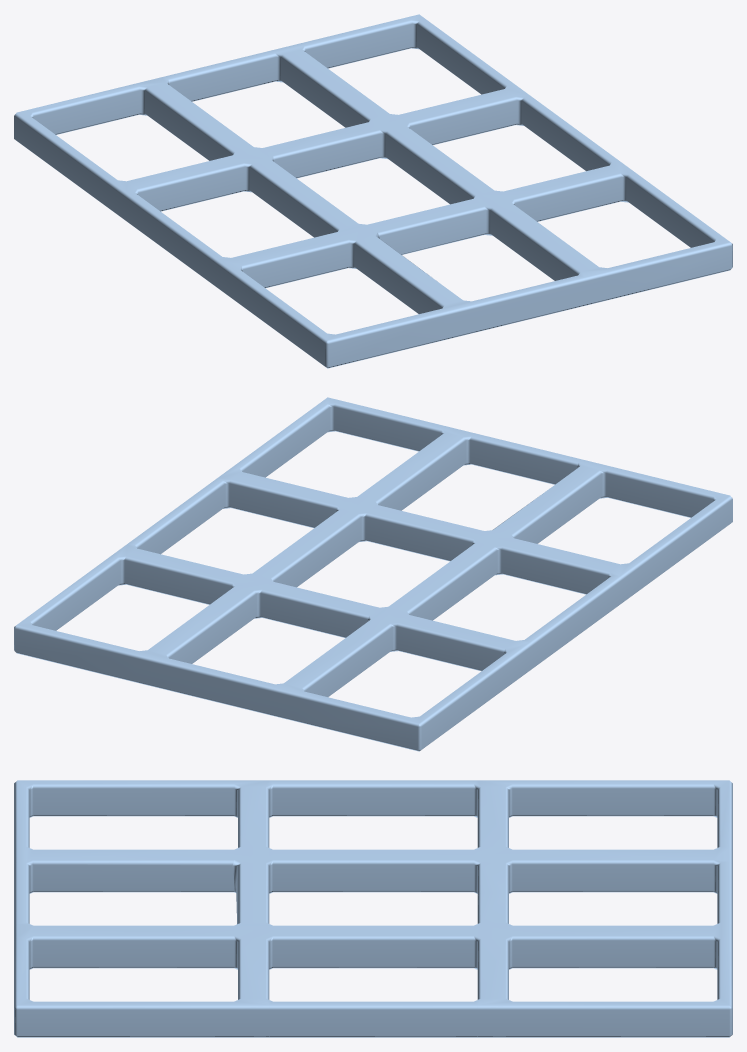
File: obstacle_2_001.fbx
3 views of the same model, one above another, from view 1: azimuth 30°, elevation 25°; view 2: azimuth 150°, elevation 25°; view 3: azimuth 270°, elevation 25° (orthographic). The views are drawn at different scales.
Parts seen in each view (by area): view 1: obstacle_2_001; view 2: obstacle_2_001; view 3: obstacle_2_001.
Boxes of the visible parts, x1,y1,x2,y2 form: obstacle_2_001: [14, 14, 732, 368]; obstacle_2_001: [14, 397, 732, 751]; obstacle_2_001: [14, 780, 732, 1037].
Bounding box in the file's own units: 1500 × 2000 × 100.
